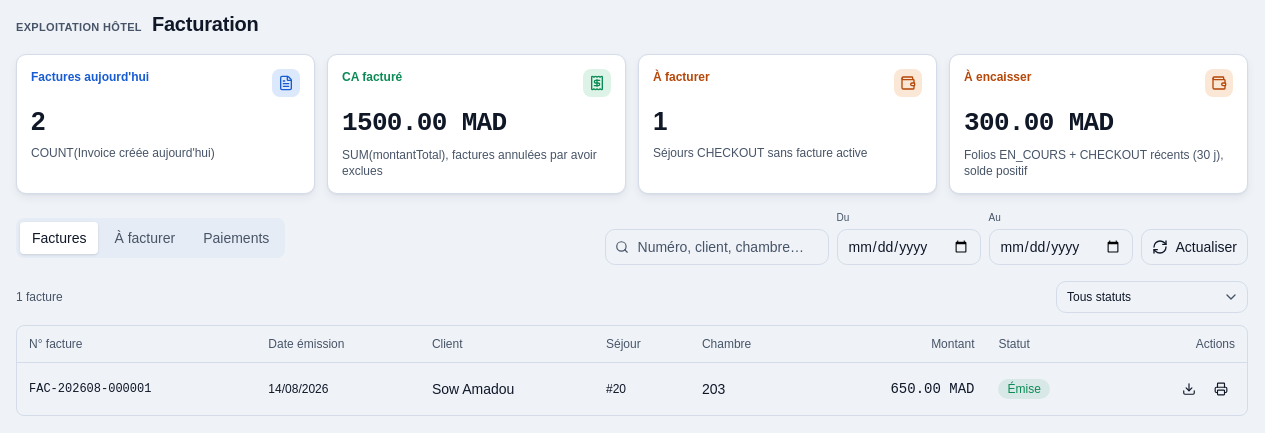
Test case: BillingPage — onglets, KPI, recherche, RBAC › bascule vers l’onglet Paiements, sans colonne "encaissé par"
Check: the text "FAC-202608-000001" is shown, box [17,362,256,414]
Click the tab "Paiements" at (236, 238), box [191,222,281,254]
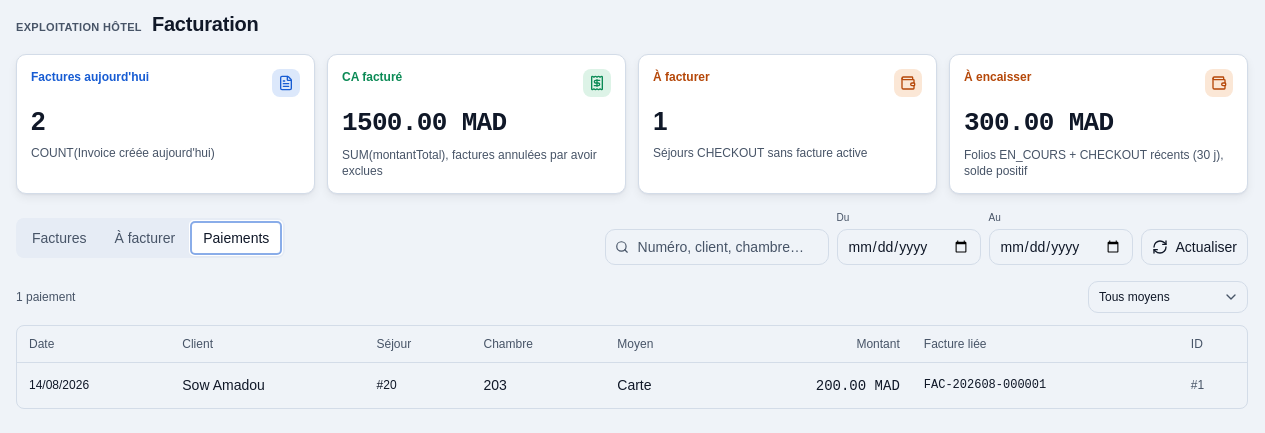
Check: the text "Carte" is shown, box [605,362,715,408]
